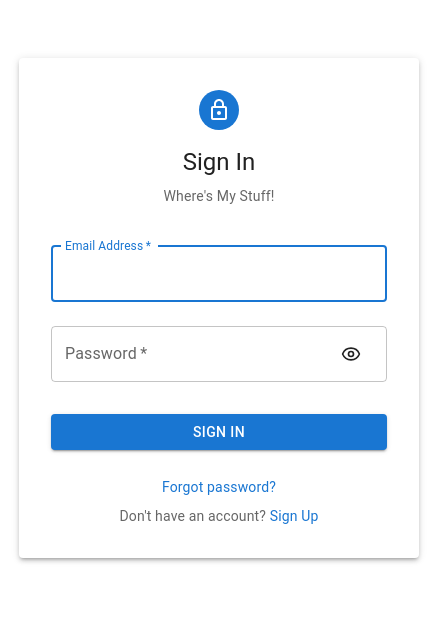
Test: Preservation Property Tests: Authentication Flow Behavior › should display password change form for NEW_PASSWORD_REQUIRED challenge
Step 1. Type "test@example.com" into the field labelled "Email Address *" → (219, 274), box [51, 246, 387, 302]
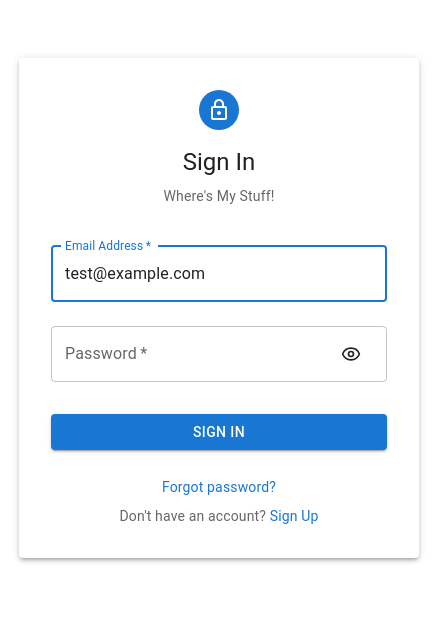
Step 2. Type "TempPassword123!" into the password field labelled "Password *" → (190, 354), box [51, 326, 329, 382]
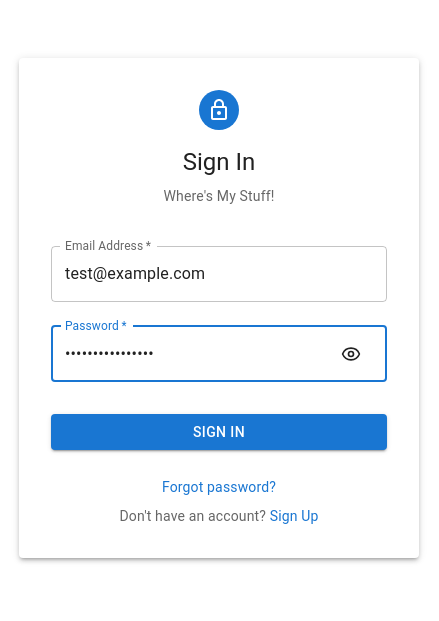
# Submit form
Step 3. Click the button "Sign In" → (219, 432), box [51, 414, 387, 450]
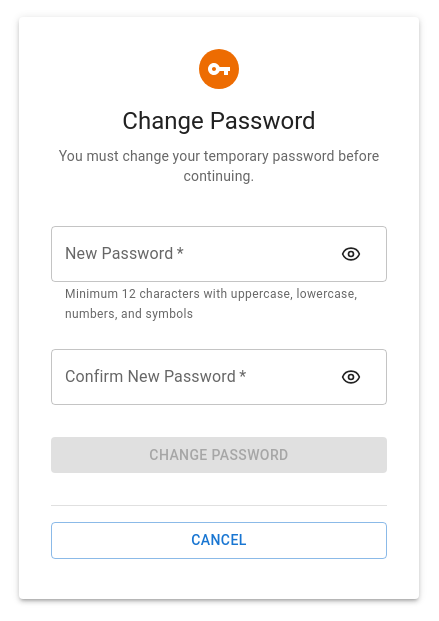
Check: the password field labelled "Confirm New Password *" is shown, box [51, 349, 329, 405]
Check: the heading "Change Password" is shown, box [122, 105, 316, 137]
Check: the password field labelled "New Password *" is shown, box [51, 226, 329, 282]
